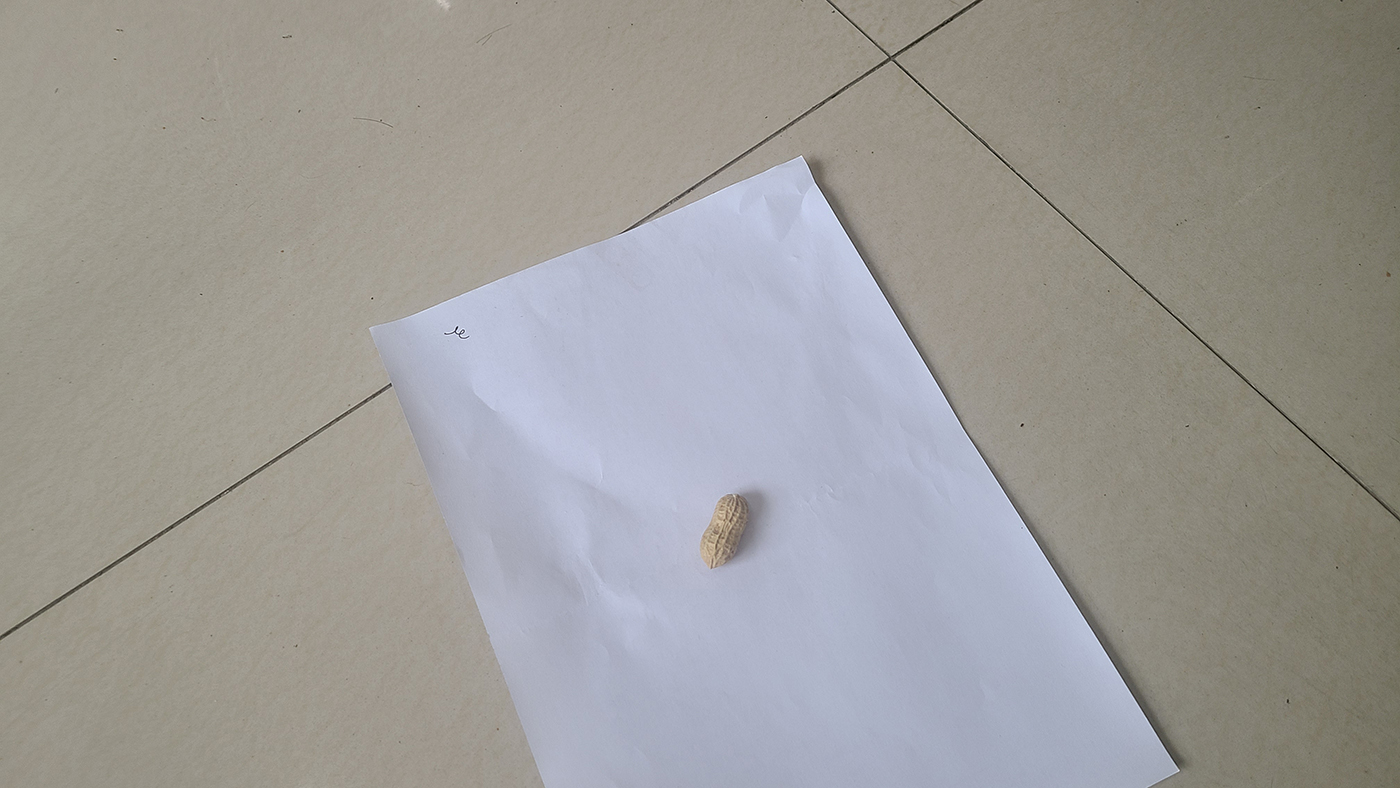h: (699, 494, 749, 568)
